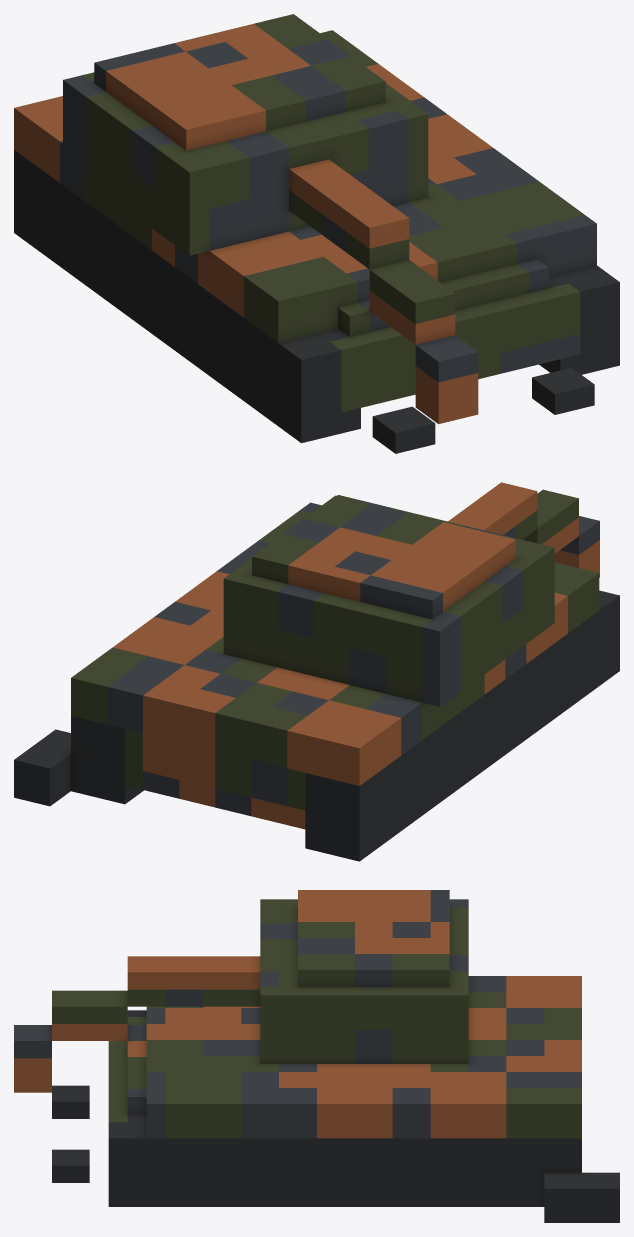
The model's file is cm_henge.glb.
3 renders of one model, top to bottom at view 1: azimuth 30°, elevation 25°; view 2: azimuth 150°, elevation 25°; view 3: azimuth 270°, elevation 25°, orthographic. The views are drawn at different scales.
Parts seen in each view (by area): view 1: cm_henge_body; view 2: cm_henge_body; view 3: cm_henge_body.
Boxes of the visible parts, left/top/right/bottom form: cm_henge_body: left=14, top=14, right=619, bottom=453; cm_henge_body: left=14, top=482, right=619, bottom=861; cm_henge_body: left=14, top=890, right=619, bottom=1222.
Size of the model in its own units: 1.19 by 0.6875 by 2.
1 material, 1 textured.
